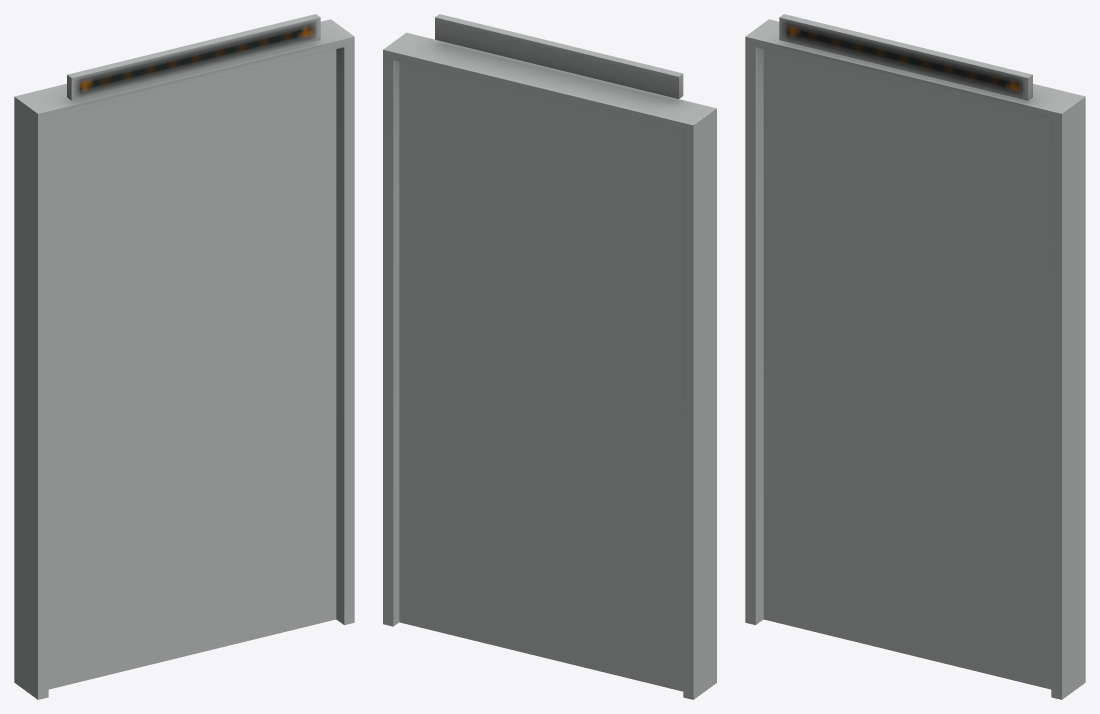
Rendered from sb_obj_ModernCity054_elevator_door.fbx.
3 renders of one model, left to right at view 1: azimuth 30°, elevation 25°; view 2: azimuth 150°, elevation 25°; view 3: azimuth 330°, elevation 25°, orthographic. The views are drawn at different scales.
Parts seen in each view (by area): view 1: sb_obj_ModernCity054_elevator_door; view 2: sb_obj_ModernCity054_elevator_door; view 3: sb_obj_ModernCity054_elevator_door.
Part boxes in pixels (x1,y1,x2,y2): sb_obj_ModernCity054_elevator_door: (14, 14, 354, 699); sb_obj_ModernCity054_elevator_door: (383, 14, 716, 699); sb_obj_ModernCity054_elevator_door: (745, 14, 1085, 699).
Size of the model in its own units: 1.07 by 1.98 by 0.14.
1 material, 1 textured.
